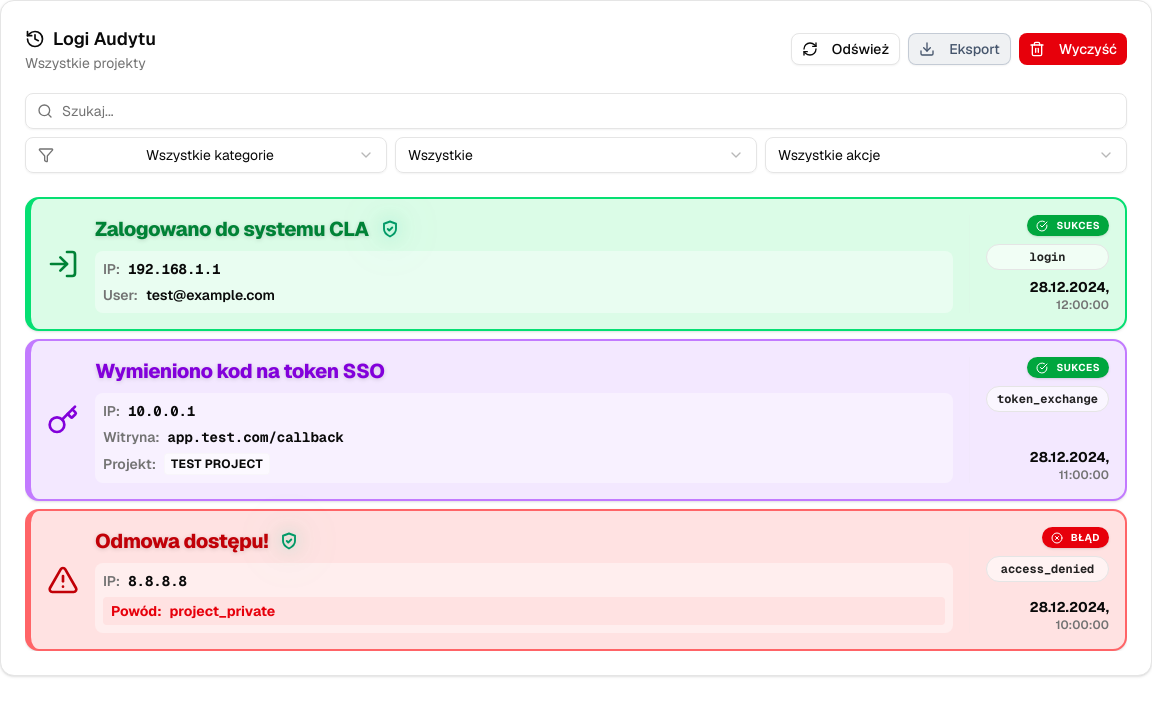
Test: AuditLogsViewer › wyszukuje logi po tekście
Wpisz w wyszukiwarkę
In the field with placeholder "Szukaj...": point(576, 111) [25, 93, 1127, 129], type "test@example.com"
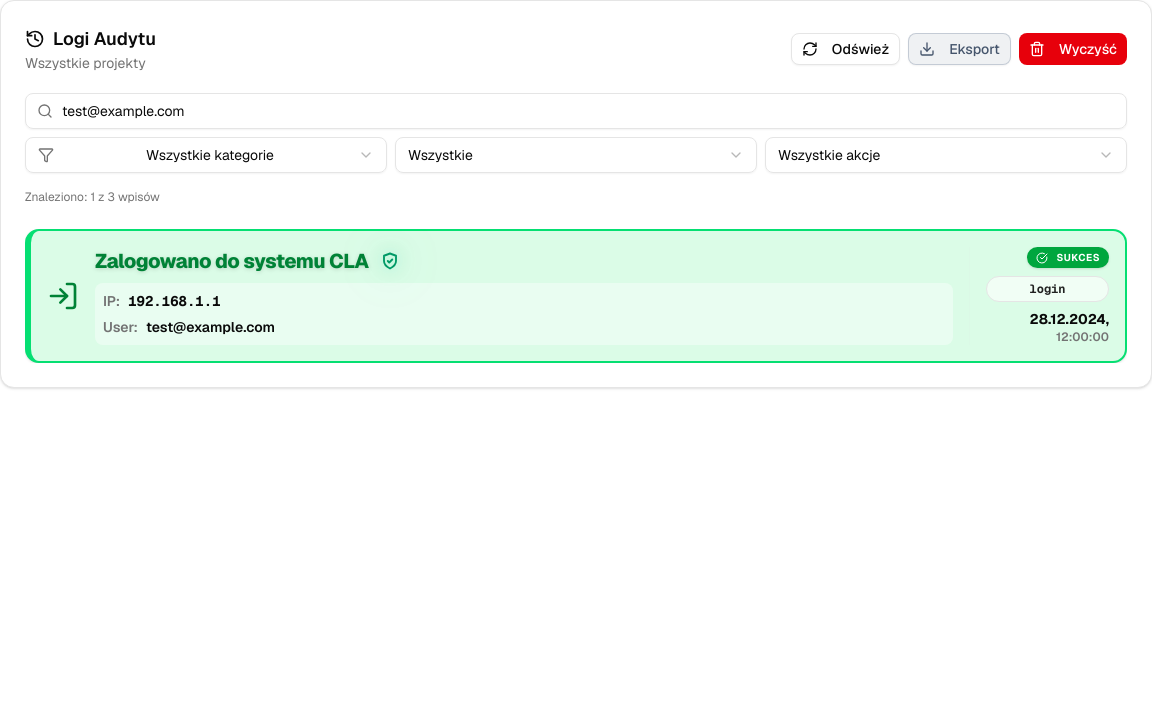
Expected: the text "Wymieniono kod na token SSO" is gone
